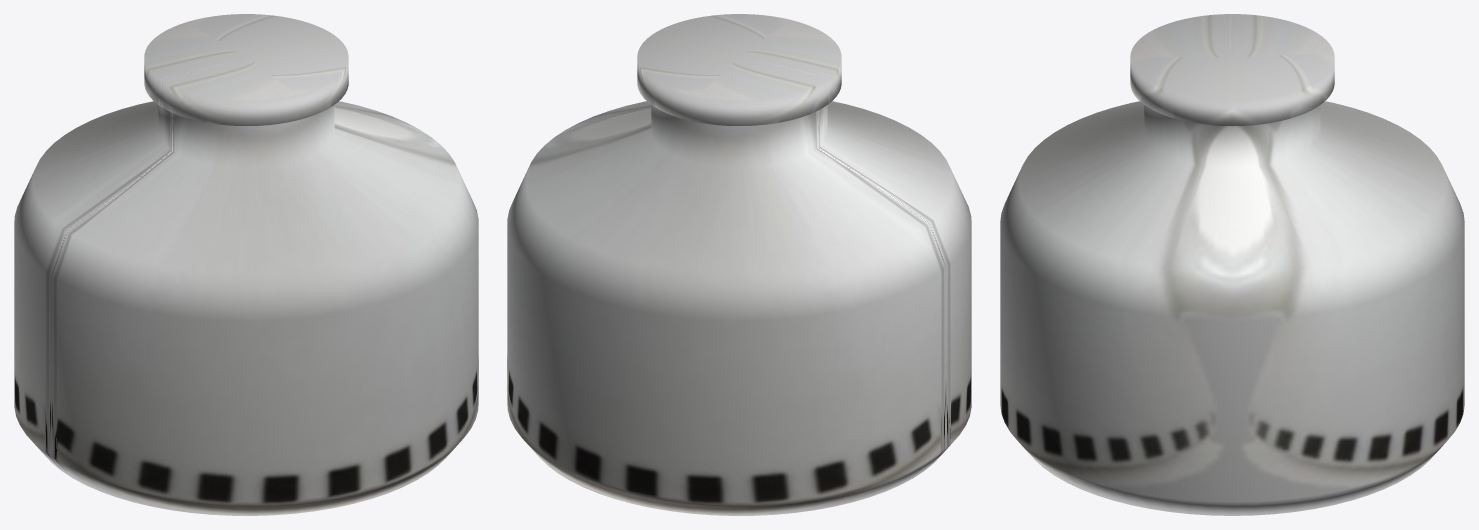
File: CER-18.glb
The picture shows the model from 3 angles, left to right: view 1: azimuth 30°, elevation 25°; view 2: azimuth 150°, elevation 25°; view 3: azimuth 270°, elevation 25°; orthographic projection.
Bounding box in the file's own units: 0.16 × 0.14 × 0.16.
1 material, 1 textured.
